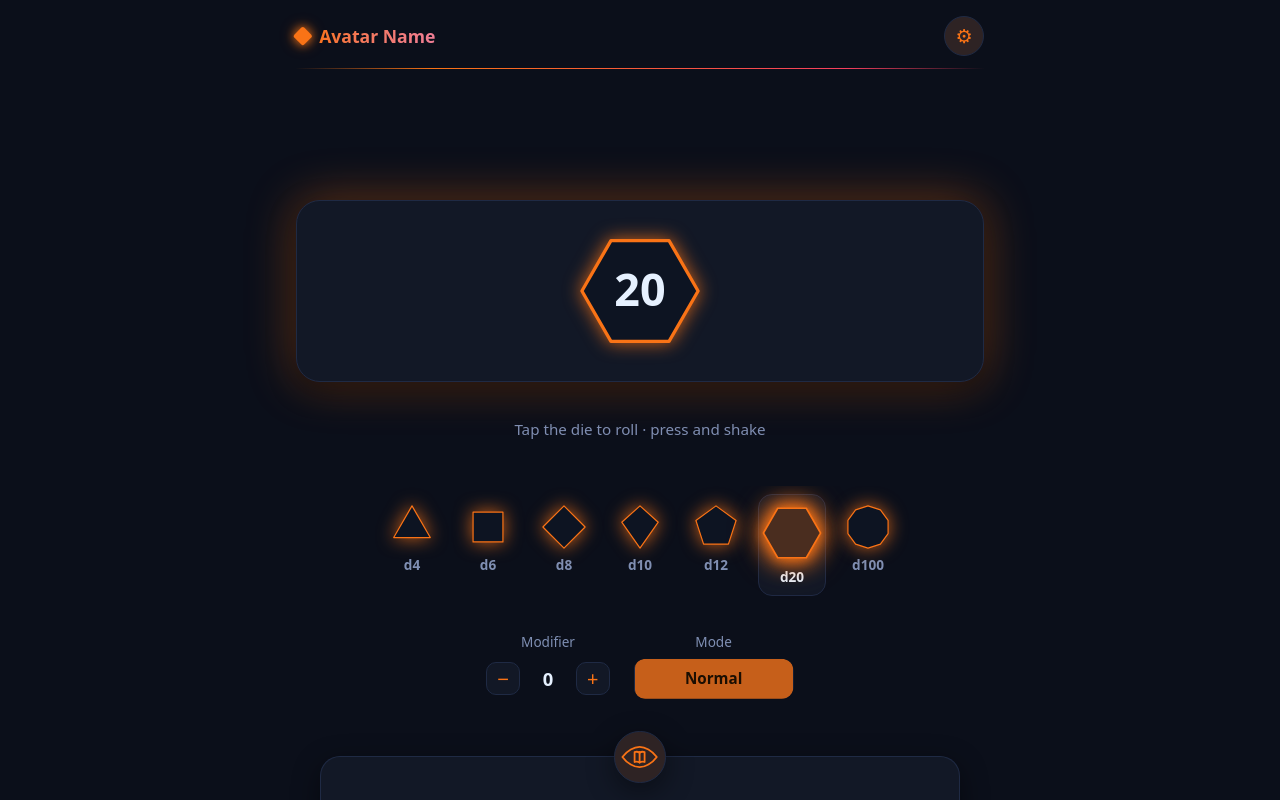
Test: RollScreen — сброс черновика при смене кубика › сбрасывает режим преимущества и размер пула при уходе с d20
The image size is (1280, 800).
(page scrolled)
Press ArrowDown in the element named "Roll mode", box [634,662,794,696]
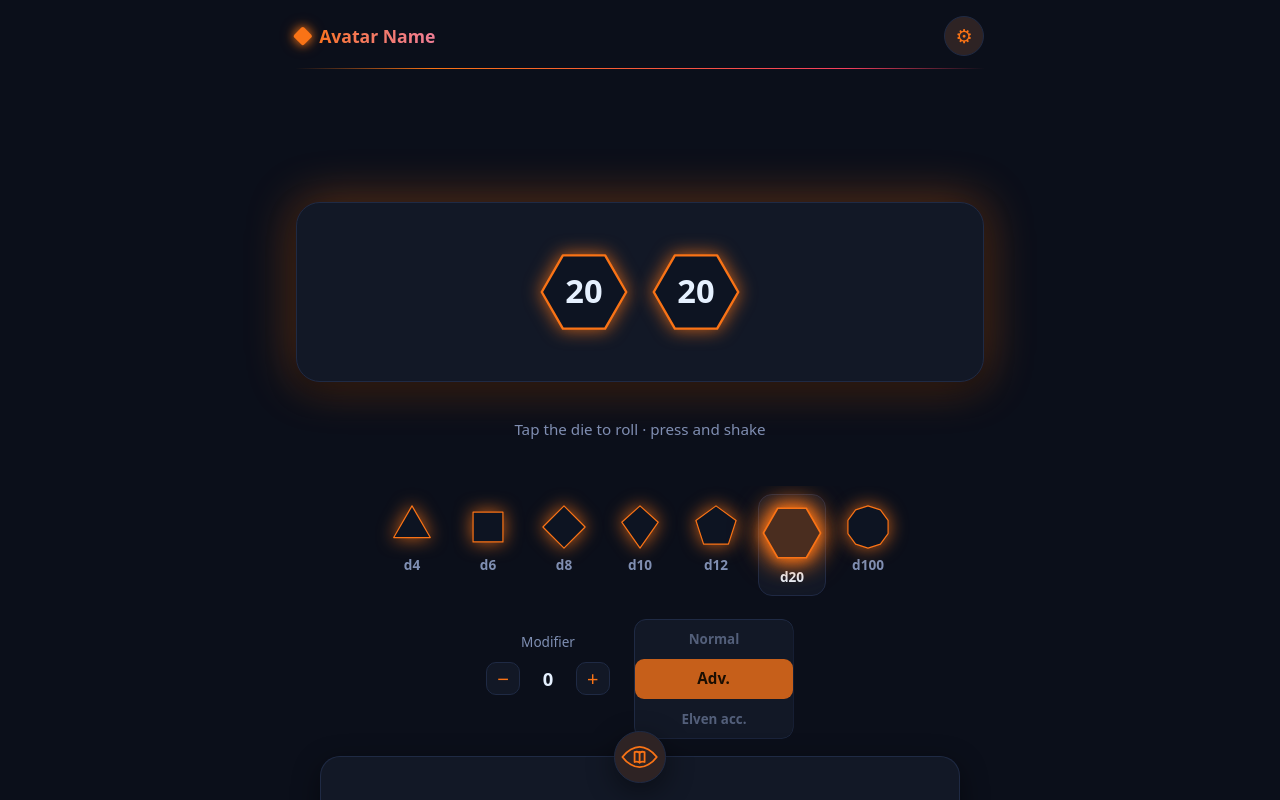
Check: the radio button labelled "Adv." is checked, box [635,659,793,699]
Click the radio button labelled "d6": (488, 545) [454,494,522,596]
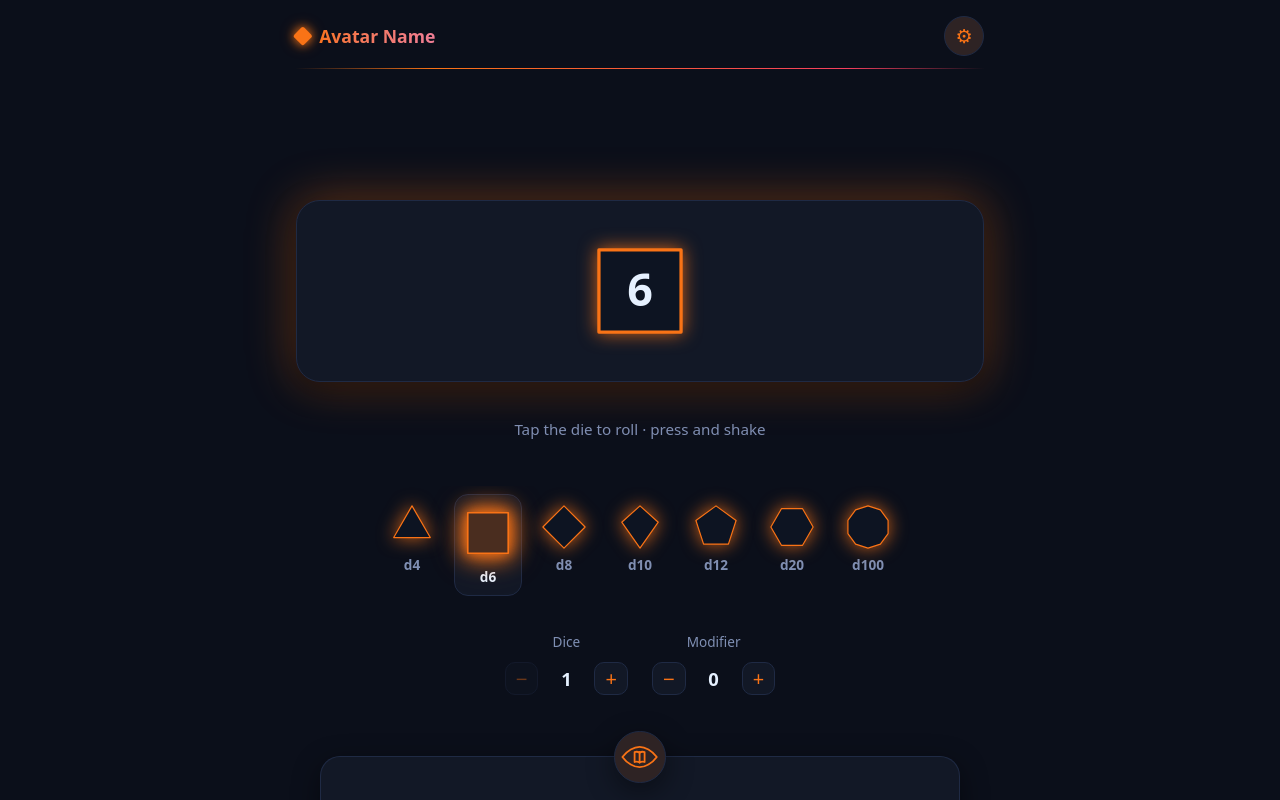
Click the radio button labelled "d20": (792, 545) [758,494,826,596]
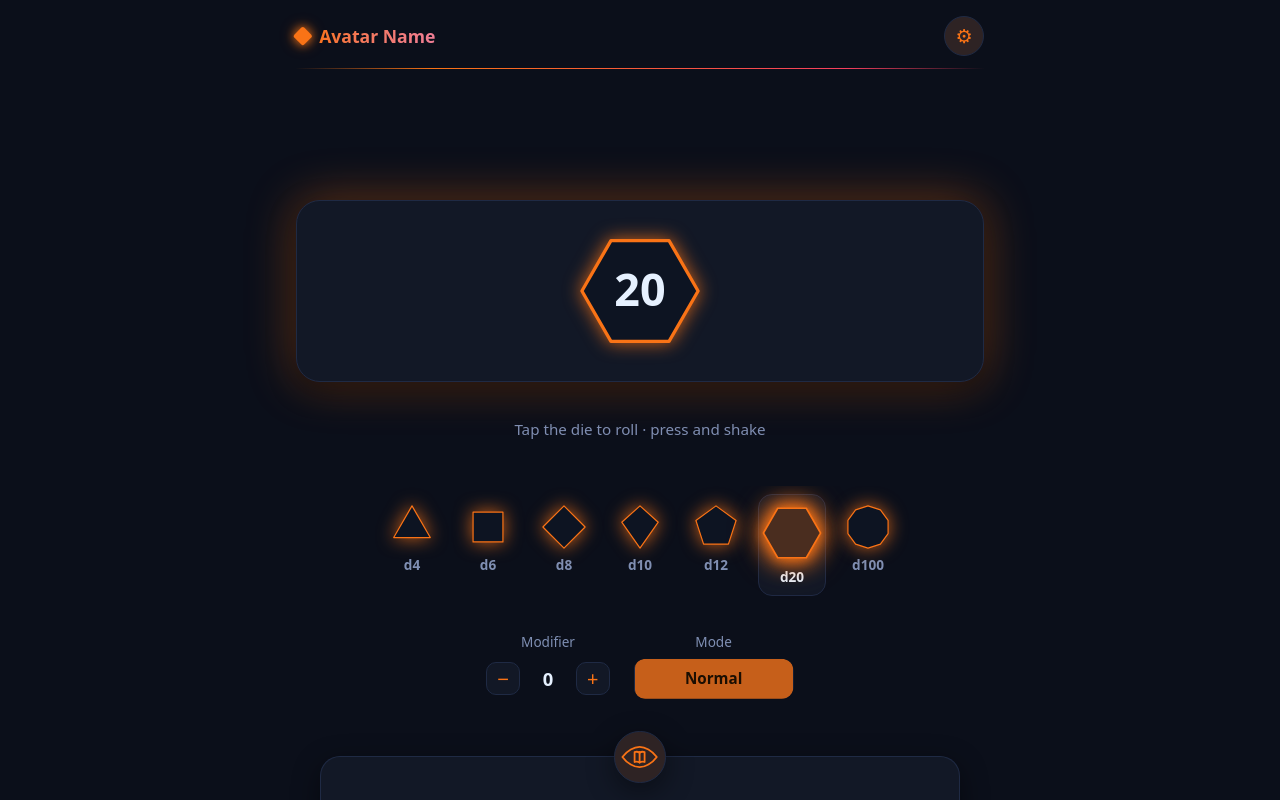
Check: the radio button labelled "Normal" is checked, box [635,659,793,699]
